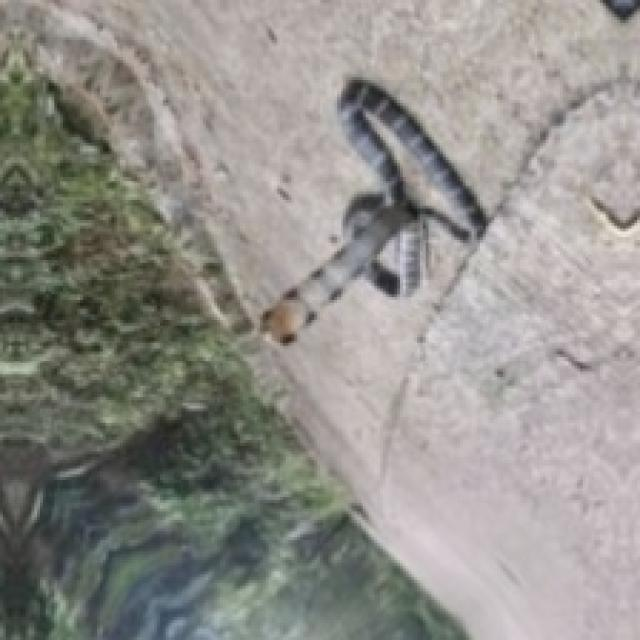king cobra: (260, 80, 486, 343)
